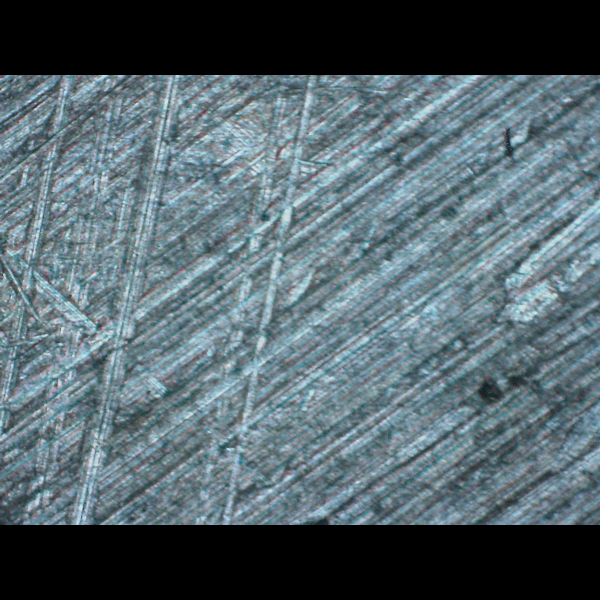d: (0, 77, 331, 525)
